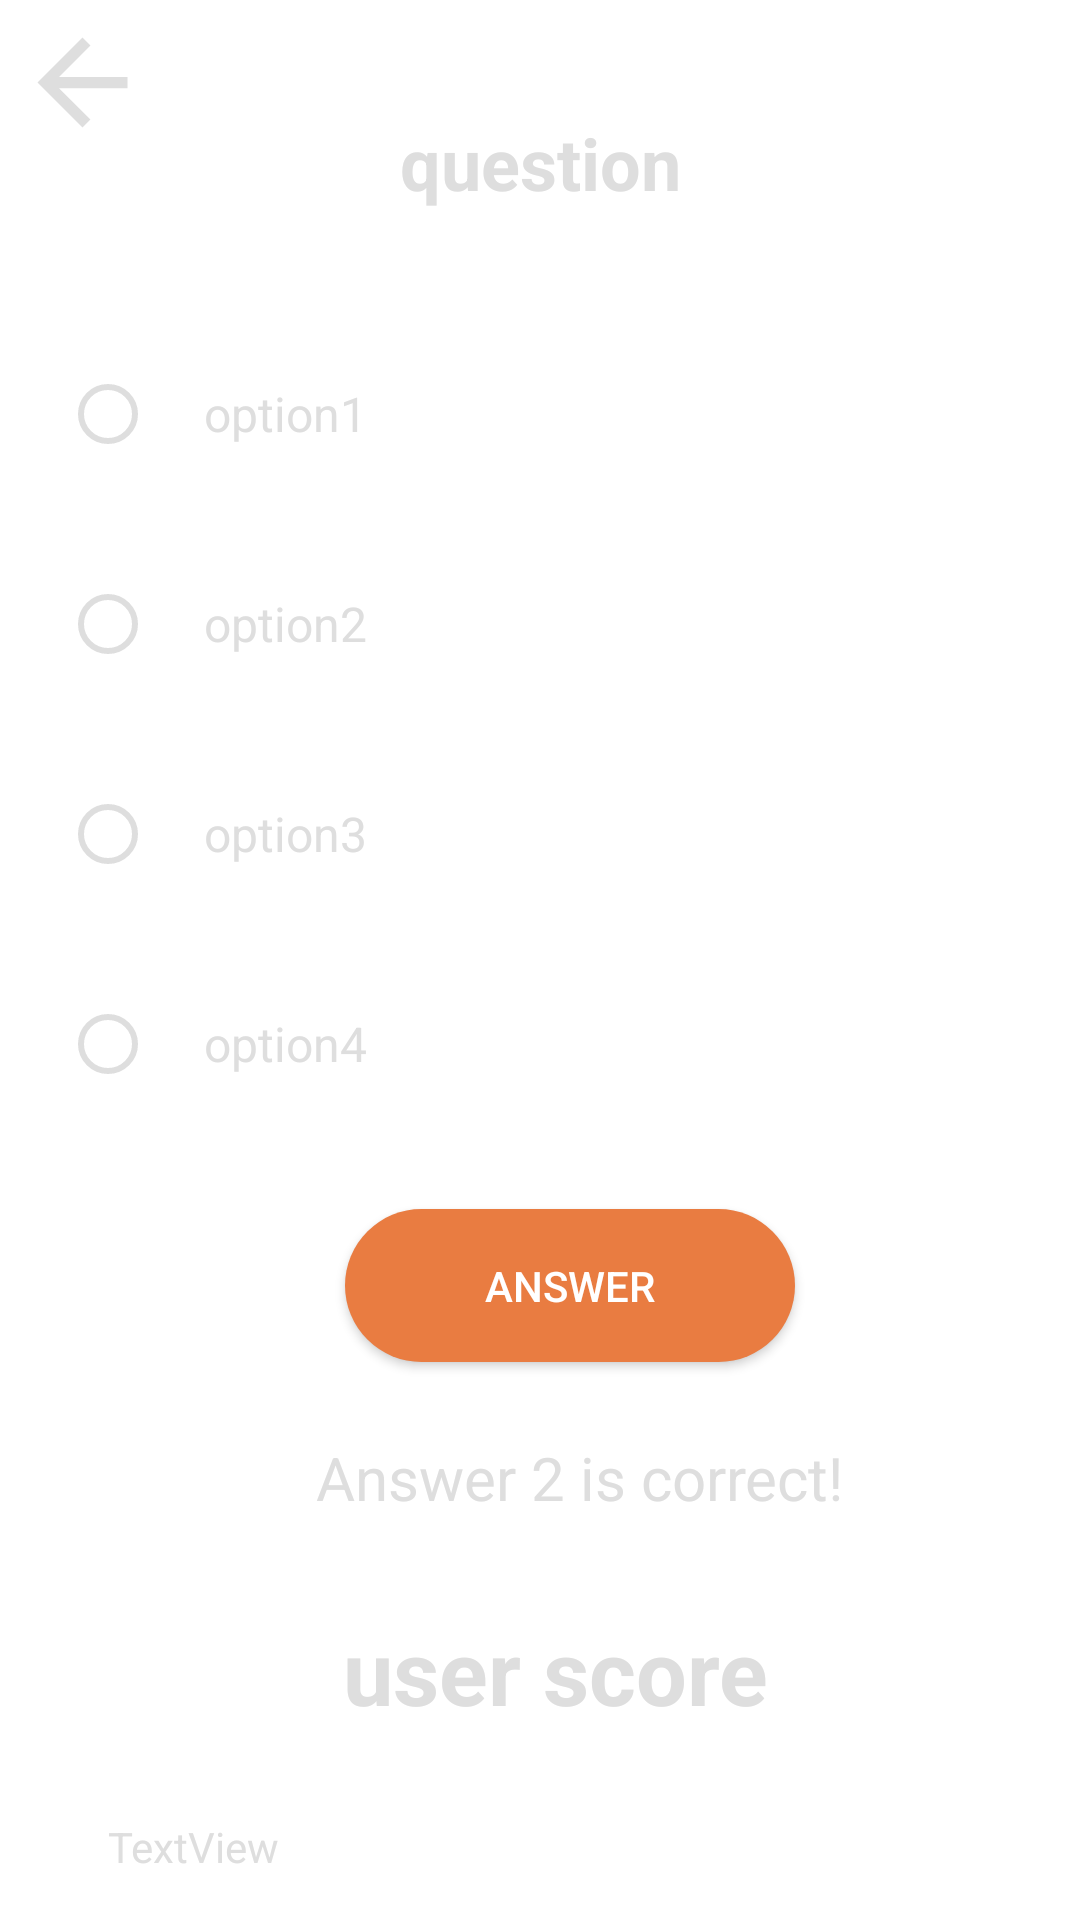

Locate icon controls on the screen. Image size 1080px×1920px, boxes as (x1, y1, x2, y2).
arrow back: (38, 38, 127, 127)
